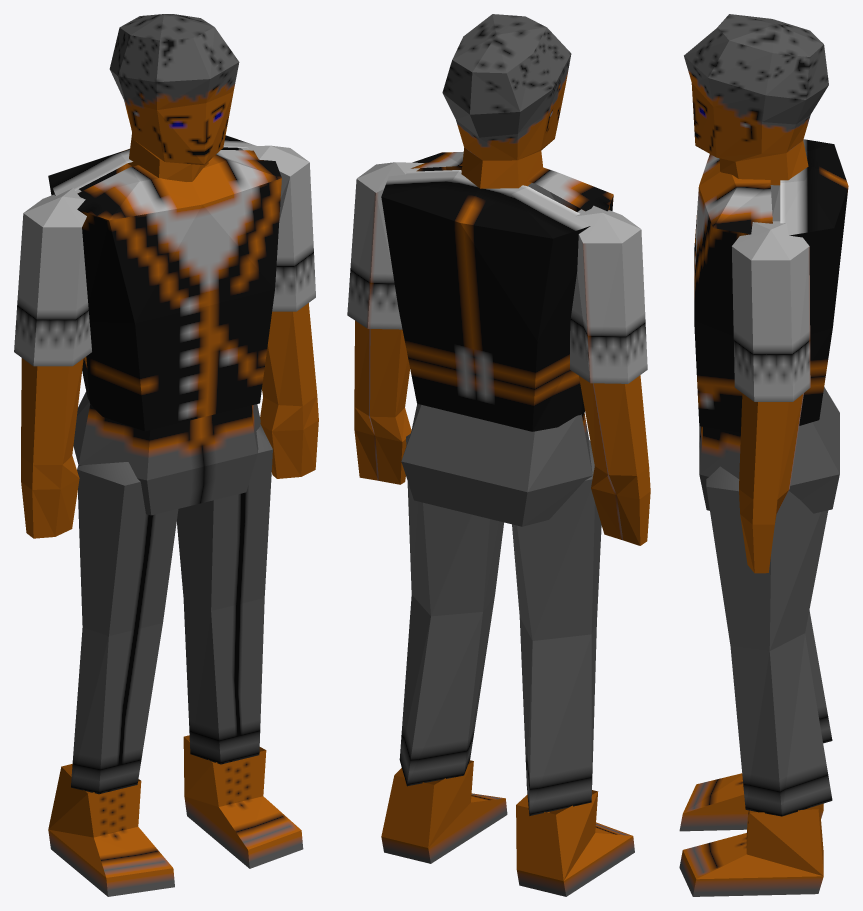
Rendered from Man3d_v6.fbx.
The picture shows the model from 3 angles, left to right: view 1: azimuth 30°, elevation 25°; view 2: azimuth 150°, elevation 25°; view 3: azimuth 270°, elevation 25°; orthographic projection.
Visible parts, largest first — view 1: man; view 2: man; view 3: man.
Boxes of the visible parts, box(x1,y1,x2,y2) form: man: box(14, 14, 318, 896); man: box(347, 14, 650, 896); man: box(679, 14, 848, 896).
Bounding box in the file's own units: 28.6 × 78.99 × 14.67.
1 material, 1 textured.
